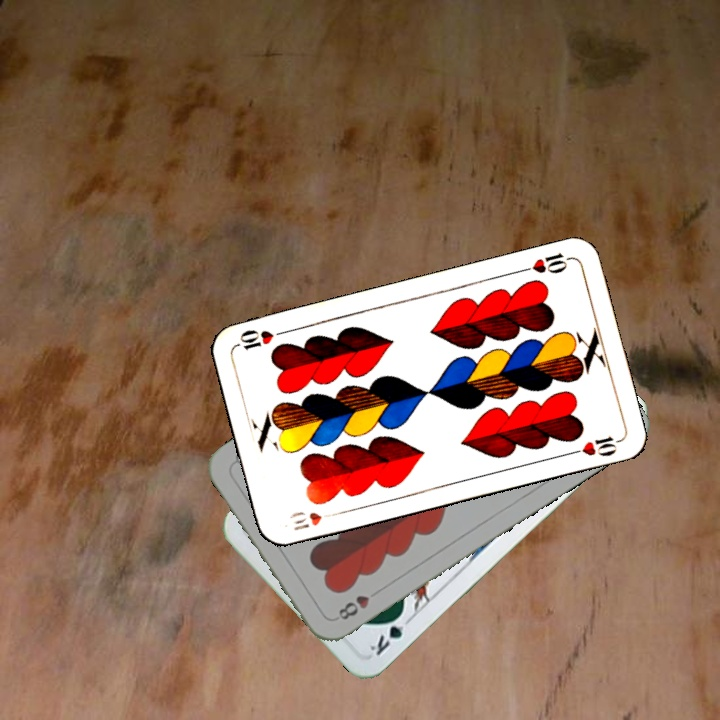GK: (365, 608, 415, 658)
H10: (516, 249, 574, 276), (285, 507, 340, 533)
H8: (334, 584, 384, 623)
